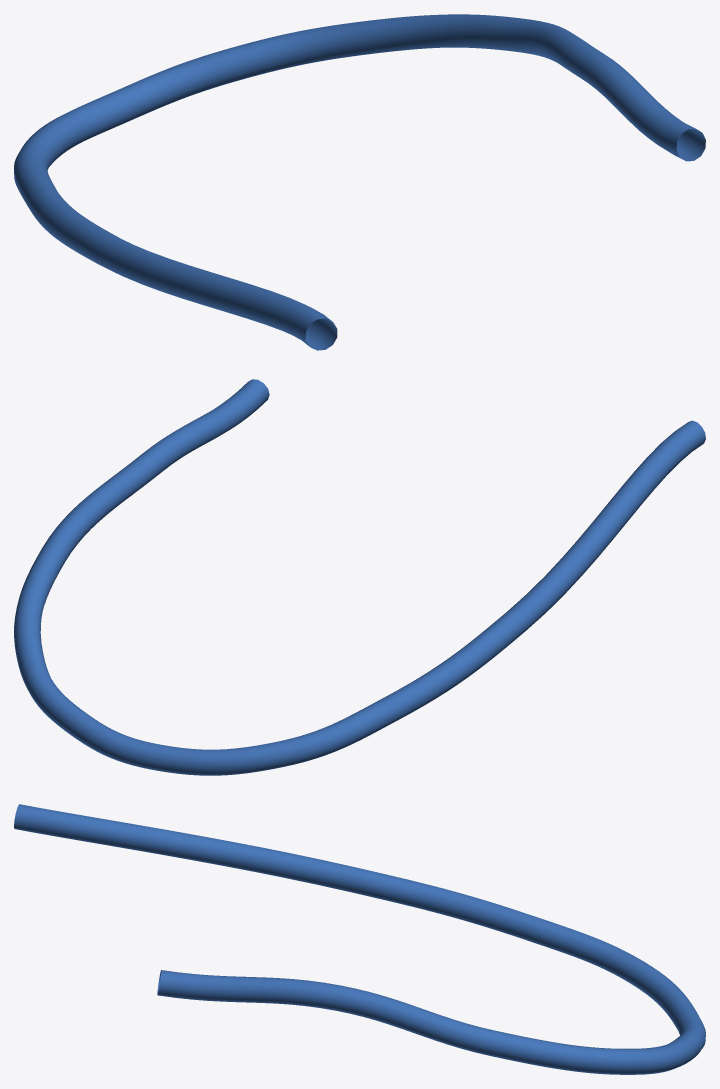
The picture shows the model from 3 angles, top to bottom: view 1: azimuth 30°, elevation 25°; view 2: azimuth 150°, elevation 25°; view 3: azimuth 270°, elevation 25°; orthographic projection. The views are drawn at different scales.
Visible parts, largest first — view 1: 左侧手背静脉网; view 2: 左侧手背静脉网; view 3: 左侧手背静脉网.
Boxes of the visible parts, x1,y1,x2,y2 form: 左侧手背静脉网: [14, 14, 705, 350]; 左侧手背静脉网: [14, 379, 705, 775]; 左侧手背静脉网: [14, 804, 705, 1074].
Size of the model in its own units: 0.0719 by 0.0244 by 0.1054.
